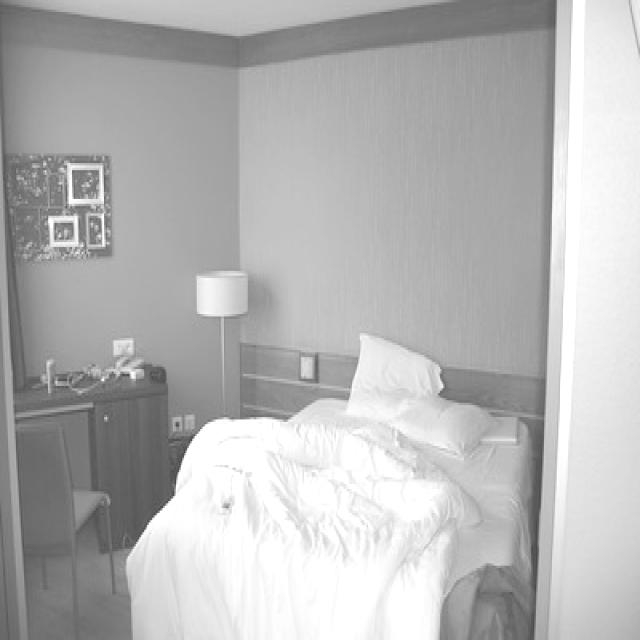bed: (129, 334, 536, 640)
